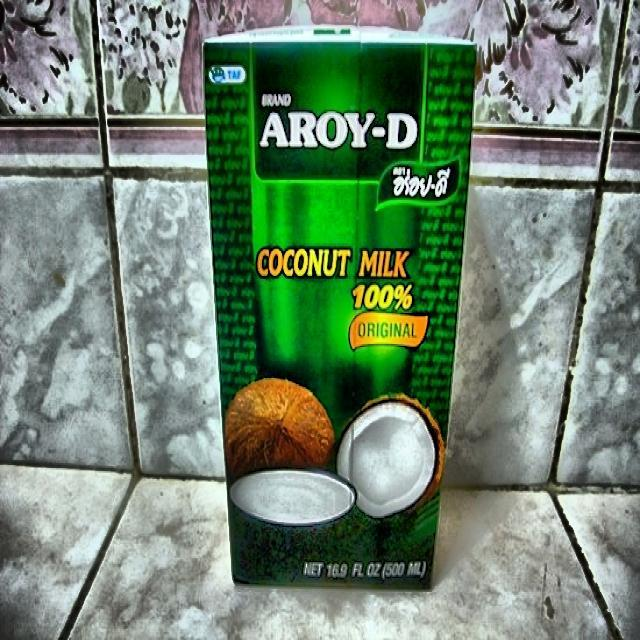cardboard: (201, 24, 477, 590)
